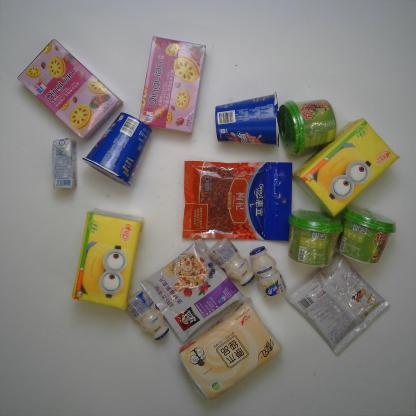Dessert: (19, 38, 123, 138), (137, 34, 205, 137), (80, 113, 149, 183), (213, 92, 284, 148)
Dried Fruit: (181, 160, 294, 243)
Instant Drink: (288, 245, 394, 356), (140, 230, 244, 343), (336, 204, 399, 265), (283, 207, 343, 268), (275, 98, 339, 154)
Milk: (126, 289, 171, 343), (212, 238, 256, 291), (250, 246, 288, 297), (50, 139, 78, 191)
Tissue: (294, 116, 404, 214), (179, 301, 284, 397), (71, 210, 141, 310)
